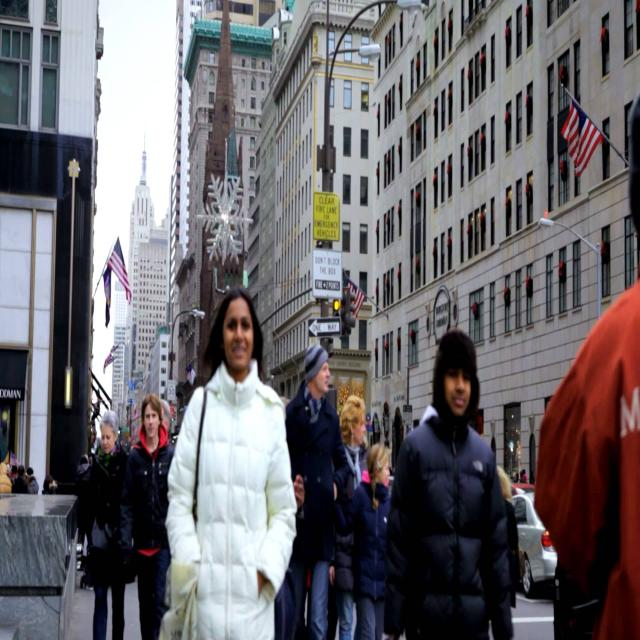body: (479, 97, 640, 638), (153, 282, 299, 639), (381, 327, 514, 640), (285, 342, 352, 640), (116, 393, 184, 639), (82, 408, 140, 640), (328, 391, 371, 640), (340, 440, 391, 639), (0, 453, 60, 497), (74, 452, 93, 547), (158, 395, 172, 447)
